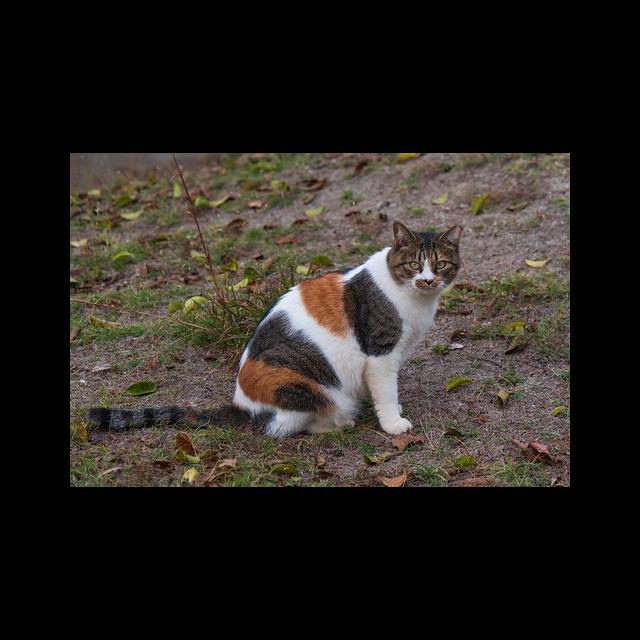animals: (89, 221, 462, 438)
